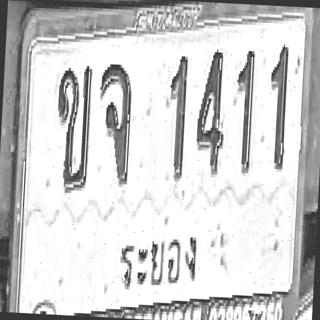A02: (52, 63, 93, 192)
A08: (95, 61, 133, 184)
N01: (164, 52, 188, 182), (266, 43, 290, 172), (232, 49, 256, 175)
N04: (194, 47, 227, 176)
P53: (109, 223, 205, 301)
